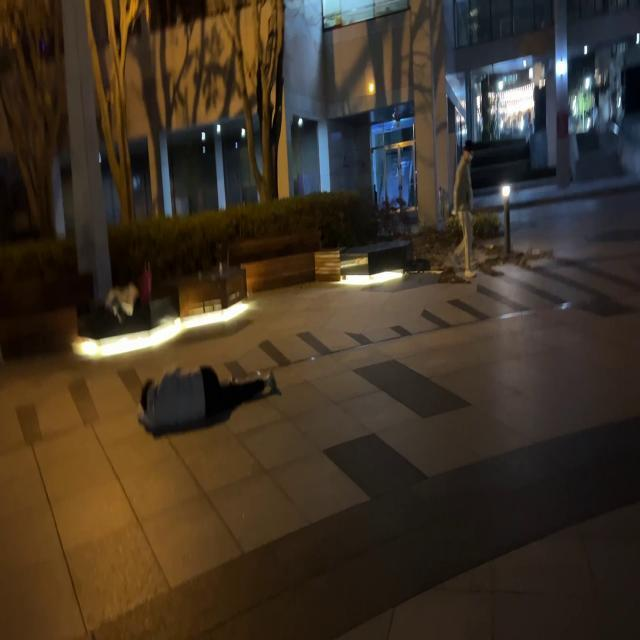Fall: (139, 367, 280, 436)
Stand: (454, 140, 478, 280)
